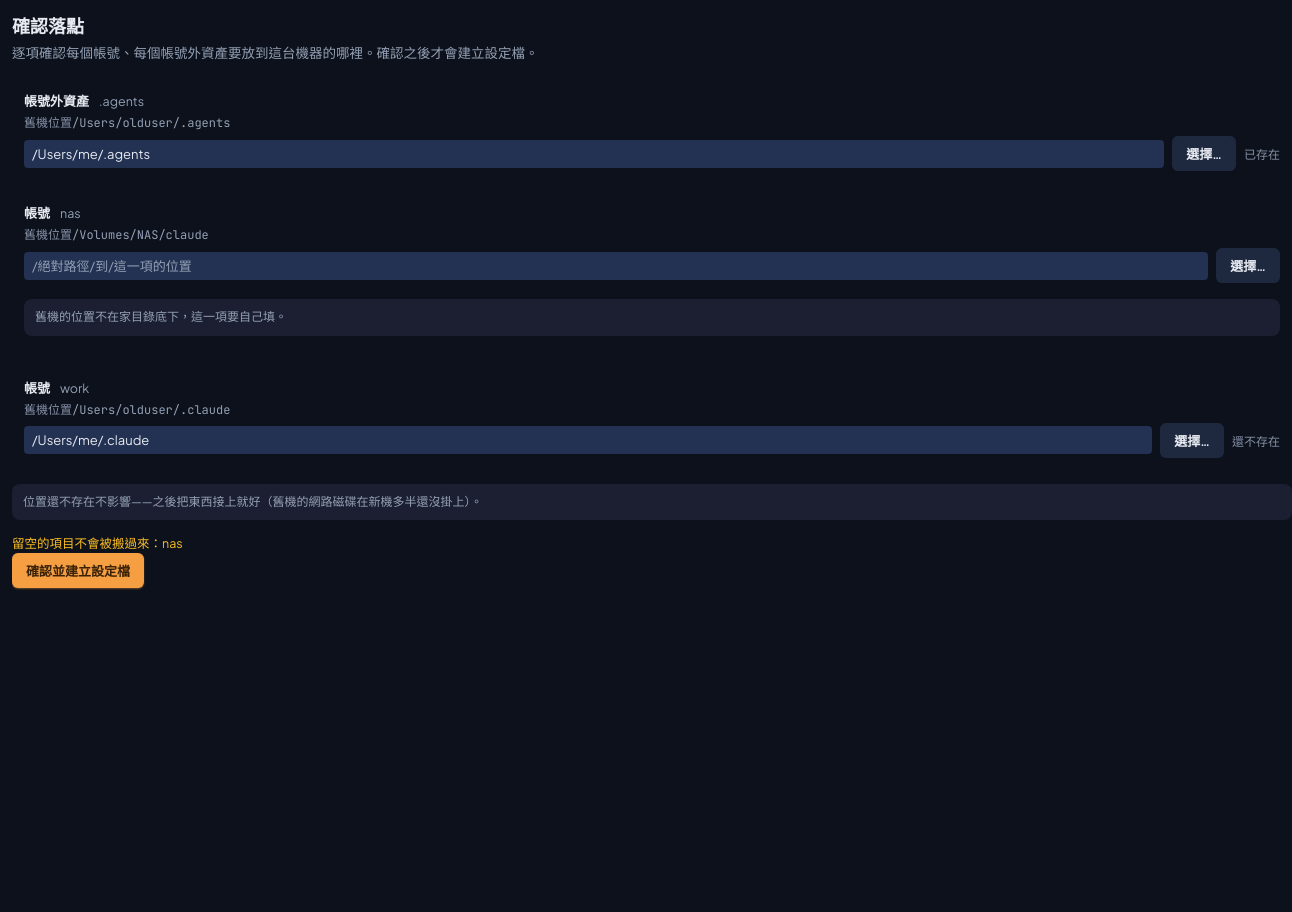
Test: TargetsCard › 一個帳號都沒填 → 擋住並說明，零請求
This screenshot has width=1292, height=912.
Clear the field showing "/Users/me/.claude" below "/Users/olduser/.claude" at (588, 440), box [24, 426, 1152, 454]
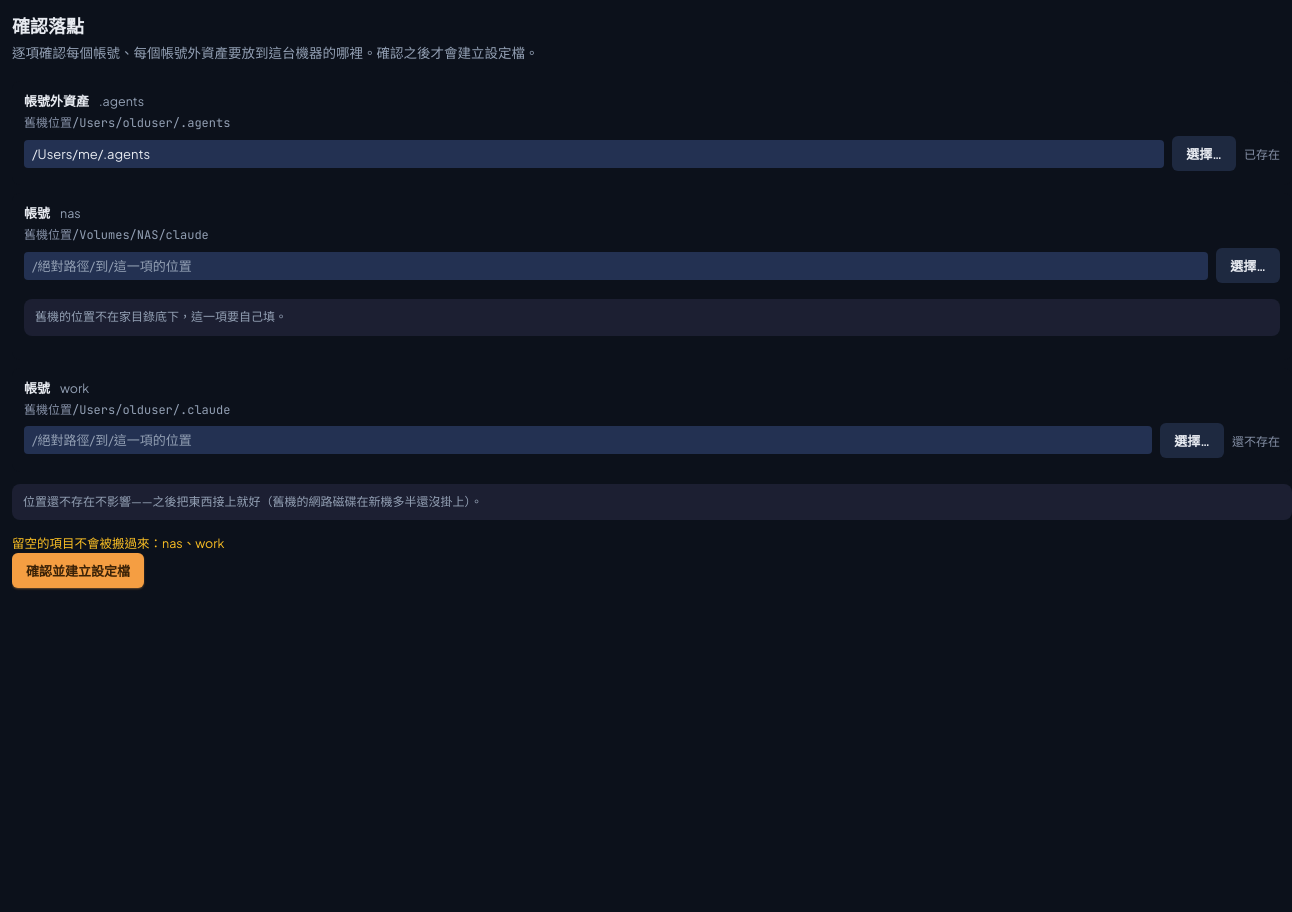
Click the button "確認並建立設定檔".
click(78, 571)  # box [12, 553, 144, 588]
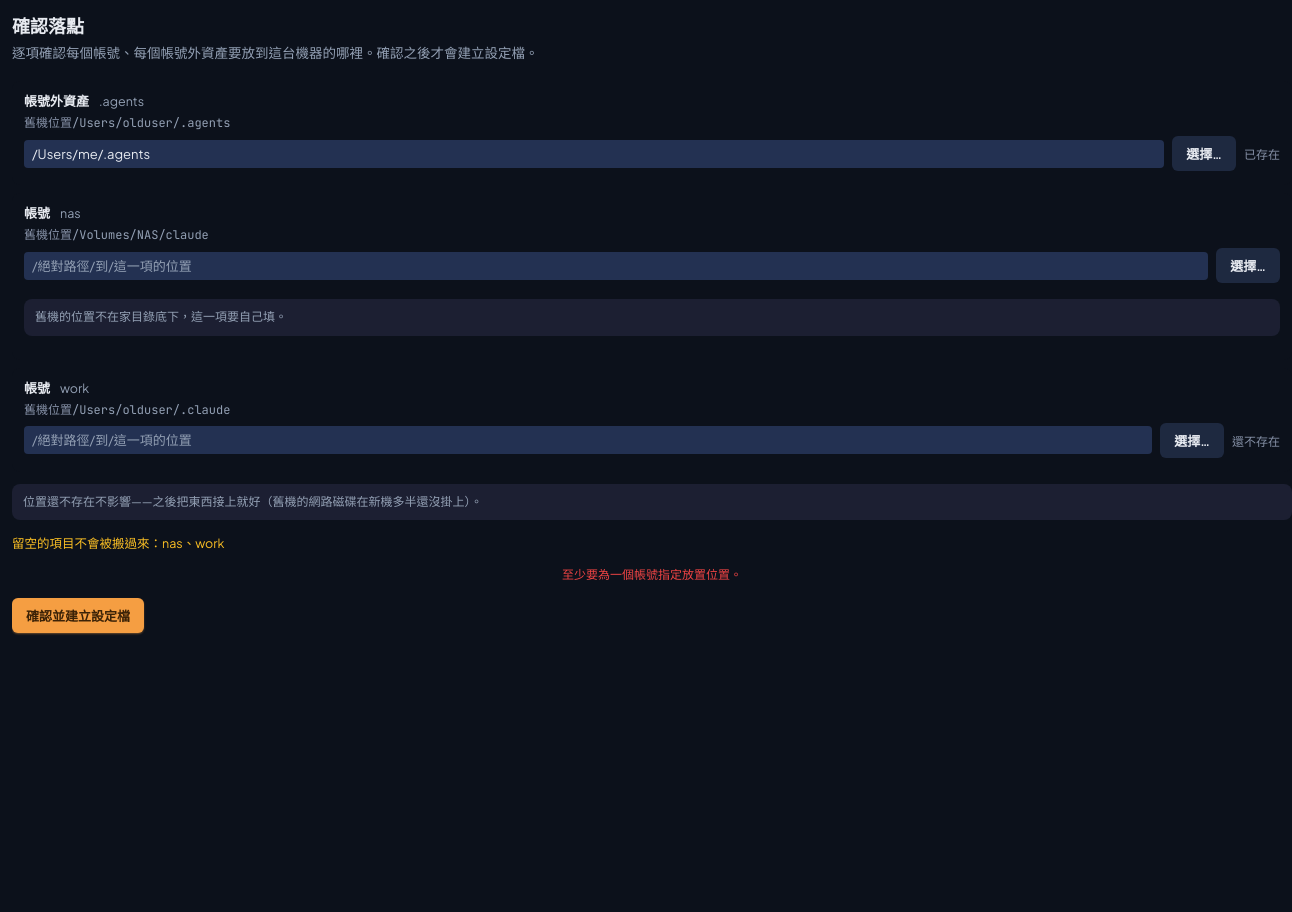
expect the text "至少要為一個帳號指定放置位置。" is shown: met, box [562, 567, 742, 582]
